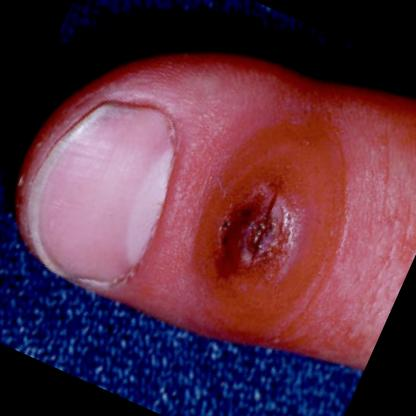Warts: (188, 135, 350, 318)
